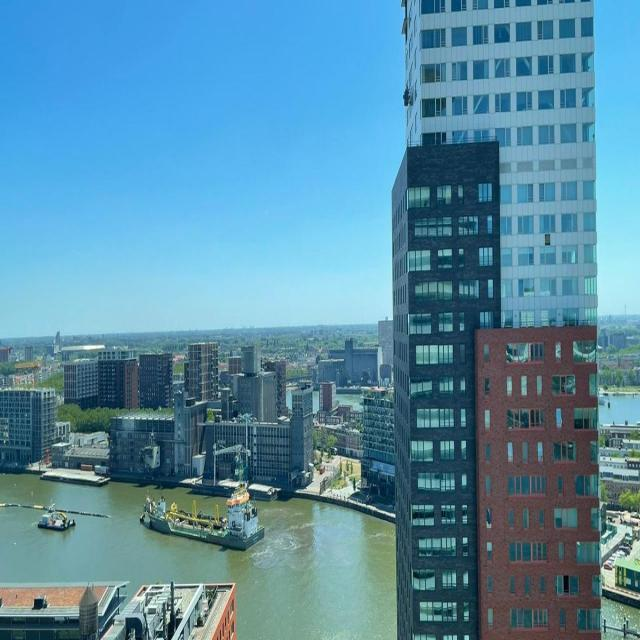Smoke: (216, 440, 225, 446)
